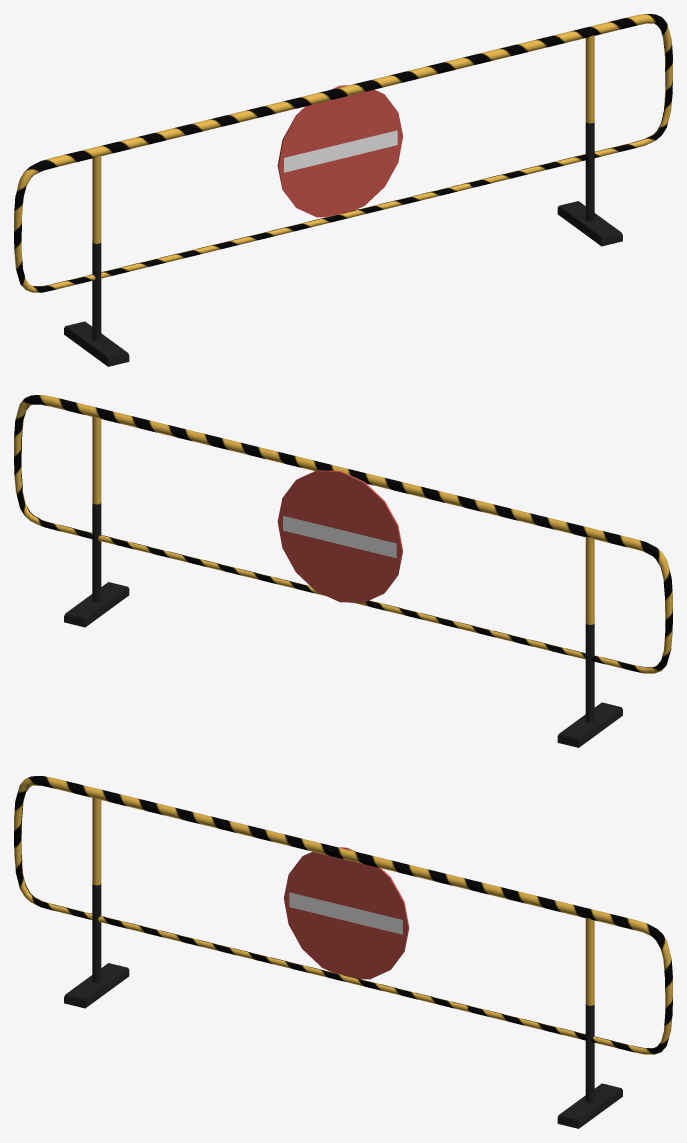
File: barrier.fbx
3 renders of one model, top to bottom at view 1: azimuth 30°, elevation 25°; view 2: azimuth 150°, elevation 25°; view 3: azimuth 330°, elevation 25°, orthographic.
Visible parts, largest first — view 1: polySurface1092; view 2: polySurface1092; view 3: polySurface1092.
Part boxes in pixels (x1,y1,x2,y2): polySurface1092: [14, 14, 672, 366]; polySurface1092: [14, 395, 672, 747]; polySurface1092: [14, 776, 672, 1128].
Size of the model in its own units: 4 by 1.17 by 0.4648.
